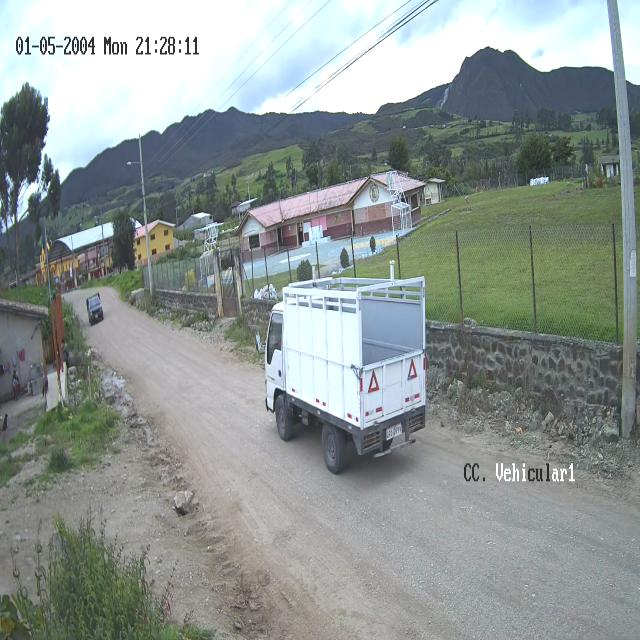TRUCK: (266, 277, 428, 475)
